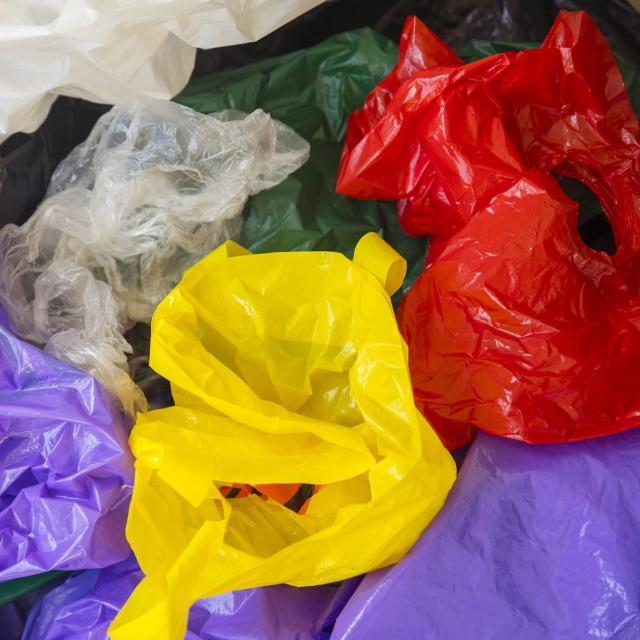Single-layer Plastic: (108, 233, 455, 639), (336, 11, 640, 448), (0, 96, 309, 413), (175, 28, 428, 290), (331, 428, 640, 640), (0, 0, 324, 142), (0, 325, 134, 581), (185, 578, 361, 640), (22, 553, 142, 640)
